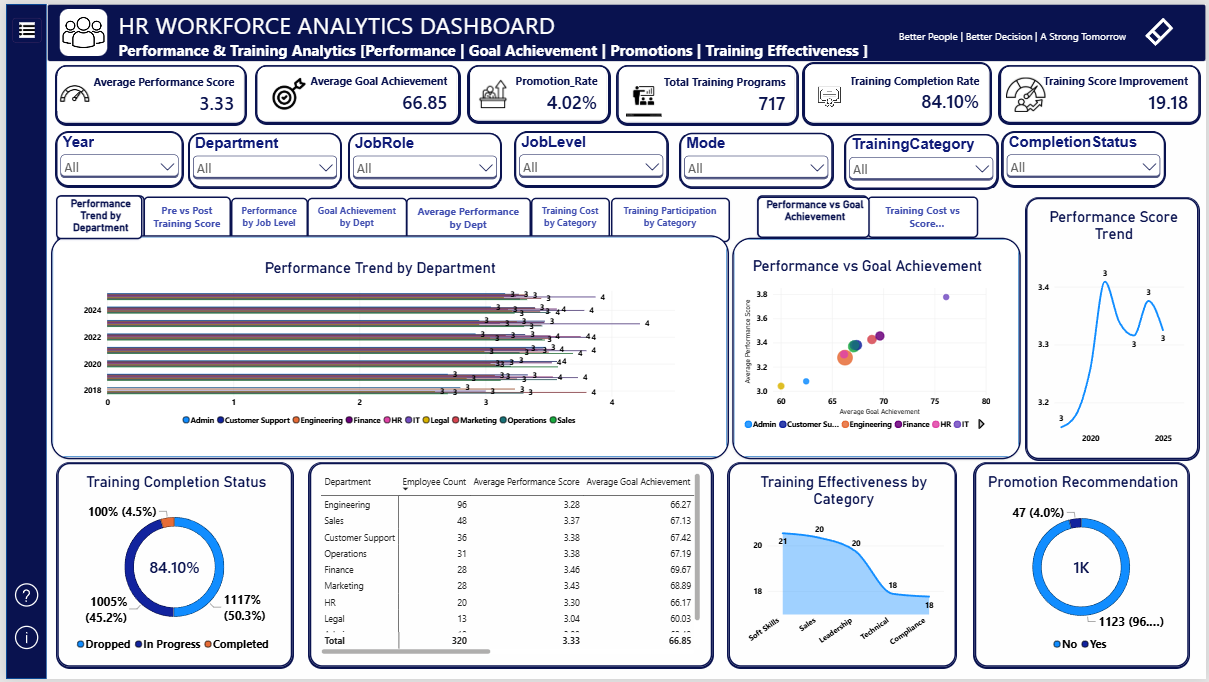

The page's visual inventory and layout, read from the dashboard file:
{"tool":"powerbi","page":{"name":"Performance & Training","canvas":[1920,1080],"ordinal":5},"visuals":[{"type":"shape","title":"side corner layout","box":[0,0,65,1080],"z":0,"group":"g17"},{"type":"actionButton","title":"top nav bar","box":[66,0,1854,92],"z":0,"group":"g16"},{"type":"cardVisual","fields":{"Data":["Measures (2).Training Completion Rate"]},"box":[1276.3,94,300,98],"z":0,"group":"g1"},{"type":"group","id":"g1","title":"Group 1","box":[1276.3,94,633,98],"z":0,"group":"g11"},{"type":"cardVisual","fields":{"Data":["Measures (2).Promotion_Rate"]},"box":[740.2,97,225.7,91.4],"z":0,"group":"g13"},{"type":"cardVisual","fields":{"Data":["Measures (2).Total Training Programs"]},"box":[978.8,97.2,288.6,94.3],"z":0,"group":"g7"},{"type":"cardVisual","fields":{"Data":["Measures (2).Average Goal Achievement"]},"box":[400,98.2,325.7,92.9],"z":0,"group":"g15"},{"type":"cardVisual","fields":{"Data":["Measures (2).Average Performance Score"]},"box":[80,98.6,304.3,94.3],"z":0,"group":"g12"},{"type":"slicer","fields":{"Values":["DimDate.Year"]},"box":[80,204,203.1,88.3],"z":0,"group":"g14"},{"type":"group","id":"g2","title":"scatter charts","box":[1162,306,462,422],"z":0},{"type":"actionButton","title":"traning cost vs src","box":[1378.9,308,177.6,66],"z":0,"group":"g5"},{"type":"actionButton","title":"Average Performance by Department","box":[639.5,310,200,73.2],"z":0,"group":"g3"},{"type":"shape","box":[1162,374.1,461.9,354],"z":0,"group":"g8"},{"type":"image","box":[1282.2,116.5,70,62],"z":125,"group":"g1"},{"type":"cardVisual","fields":{"Data":["Measures (2).Training Score Improvement"]},"box":[1589.3,98.3,320,92.9],"z":500,"group":"g1"},{"type":"group","id":"g3","title":"inactive button","box":[81.1,306.5,1075.2,78.2],"z":500,"group":"g9"},{"type":"shape","box":[72,370.3,1085.2,358],"z":500,"group":"g4"},{"type":"image","title":"people icon","box":[85,7.5,76,75],"z":1000,"group":"g16"},{"type":"image","box":[82,109.4,56,70],"z":1000,"group":"g12"},{"type":"image","box":[420.5,110.8,65.7,67.1],"z":1000,"group":"g15"},{"type":"image","box":[753.1,111.3,54.3,64.3],"z":1000,"group":"g13"},{"type":"image","box":[1600.7,112.2,62.9,65.7],"z":1000,"group":"g1"},{"type":"image","box":[992.2,114.4,57.1,65.7],"z":1000,"group":"g7"},{"type":"slicer","fields":{"Values":["DimEmployee.JobLevel"]},"box":[814.9,204,244.8,88.3],"z":1000,"group":"g14"},{"type":"group","id":"g4","title":"active buttons","box":[72,304,1085.2,424.3],"z":1000,"group":"g9"},{"type":"group","id":"g5","title":"inactive button","box":[1202.3,306,354.2,68],"z":1000,"group":"g2"},{"type":"actionButton","title":"performance vs goal","box":[1202.3,306,177.6,68],"z":1000,"group":"g5"},{"type":"actionButton","title":"Performance vs Goal Achievement","box":[1201.1,308,180.1,66],"z":1000,"group":"g8"},{"type":"actionButton","title":"Goal Achievement by Department","box":[481.2,310,160,71.5],"z":1000,"group":"g3"},{"type":"scatterChart","title":"Performance vs Goal Achievement","fields":{"Series":["DimEmployee.Department"],"Size":["Measures (2).Total Employees"],"X":["Measures (2).Average Goal Achievement"],"Y":["Measures (2).Average Performance Score"]},"box":[1165.9,389.6,424.7,312],"z":1000,"group":"g10"},{"type":"actionButton","title":"info","box":[7.5,985,50,50],"z":1000,"group":"g17"},{"type":"actionButton","title":"clear slicer","box":[1794,12,102,66],"z":1500,"group":"g16"},{"type":"group","id":"g6","title":"chart","box":[87.4,382.6,1055.3,334],"z":1500,"group":"g9"},{"type":"textbox","box":[180,7.5,1220,85],"z":2000,"group":"g16"},{"type":"group","id":"g7","title":"Group 1","box":[978.8,97.2,288.6,94.3],"z":2000,"group":"g11"},{"type":"slicer","fields":{"Values":["DimEmployee.JobRole"]},"box":[548.1,206.5,244.8,88.3],"z":2000,"group":"g14"},{"type":"group","id":"g8","title":"active button","box":[1162,306,461.9,422.1],"z":2000,"group":"g2"},{"type":"actionButton","title":"Training Participation by Category","box":[966.2,310,190,71.5],"z":2000,"group":"g3"},{"type":"actionButton","title":"help","box":[7.5,917.5,50,50],"z":2000,"group":"g17"},{"type":"textbox","box":[1306,22,486,62],"z":2500,"group":"g16"},{"type":"actionButton","title":"menu Button","box":[10,22.5,47.5,40],"z":3000,"group":"g17"},{"type":"slicer","fields":{"Values":["DimDepartment.Department"]},"box":[291.1,206.5,244.8,88.3],"z":3000,"group":"g14"},{"type":"group","id":"g9","title":"Group 1","box":[72,304,1085.2,424.3],"z":3000},{"type":"actionButton","title":"Performance by Job Level","box":[359.5,309.8,123.4,74.8],"z":3000,"group":"g3"},{"type":"group","id":"g10","title":"carts","box":[1165.9,381.6,426.7,334],"z":3000,"group":"g2"},{"type":"group","id":"g11","title":"card","box":[80,94,1829.3,98.9],"z":4000},{"type":"group","id":"g12","title":"Group 1","box":[80,98.6,304.3,94.3],"z":4000,"group":"g11"},{"type":"slicer","fields":{"Values":["FactTraining.CompletionStatus"]},"box":[1593.6,204,260.4,88.3],"z":4000,"group":"g14"},{"type":"actionButton","title":"Training Cost by Category","box":[839.6,309.8,126.7,74.8],"z":4000,"group":"g3"},{"type":"group","id":"g13","title":"Group 1","box":[740.2,97,225.7,91.4],"z":5000,"group":"g11"},{"type":"group","id":"g14","title":"slicers","box":[80,204,1774,92],"z":5000},{"type":"slicer","fields":{"Values":["FactTraining.TrainingCategory"]},"box":[1342.9,207.7,244.8,88.3],"z":5000,"group":"g14"},{"type":"actionButton","title":"Pre vs Post Training Score","box":[219.5,308.2,140,73.2],"z":5000,"group":"g3"},{"type":"slicer","fields":{"Values":["FactTraining.Mode"]},"box":[1078.6,205.2,244.8,88.3],"z":6000,"group":"g14"},{"type":"actionButton","title":"Performance Trend by Department","box":[81.1,306.5,140,76.5],"z":6000,"group":"g3"},{"type":"donutChart","title":"Training Completion Status","fields":{"Category":["FactTraining.CompletionStatus"],"Y":["Measures (2).Training Completion Rate"]},"box":[82,734,376,326],"z":6000},{"type":"group","id":"g15","title":"Group 1","box":[400,98.2,325.7,92.9],"z":7000,"group":"g11"},{"type":"actionButton","title":"Performance Trend by Department","box":[80.6,305.7,138.7,70.3],"z":7000,"group":"g4"},{"type":"clusteredBarChart","title":"Performance Trend by Department","fields":{"Category":["FactPerformance.ReviewYear"],"Series":["DimEmployee.Department"],"Y":["Measures (2).Average Performance Score"]},"box":[107.9,395.4,981.8,301],"z":7000,"group":"g6"},{"type":"donutChart","title":"Promotion Recommendation","fields":{"Category":["FactPerformance.PromotionRecommended"],"Y":["Measures (2).Total Performance Reviews"]},"box":[1550,734,342,326],"z":7000},{"type":"pivotTable","title":"Performance vs Goal Achievement","fields":{"Rows":["DimEmployee.Department"],"Values":["Measures (2).Employee Count","Measures (2).Average Performance Score","Measures (2).Average Goal Achievement","Measures (2).Average Manager Rating","Measures (2).Promotion_Rate","Measures (2).Training Completion Rate","Measures (2).Total Training Cost"]},"box":[486,734,644,326],"z":8000},{"type":"lineChart","title":"Performance Score Trend","fields":{"Category":["FactPerformance.ReviewYear"],"Y":["Measures (2).Average Performance Score"]},"box":[1632,310,276,418],"z":9000},{"type":"areaChart","title":"Training Effectiveness by Category","fields":{"Category":["FactTraining.TrainingCategory"],"Y":["Measures (2).Training Score Improvement"]},"box":[1156,734,364,326],"z":10000},{"type":"group","id":"g16","title":"top nav bar","box":[66,0,1854,92.5],"z":11000},{"type":"group","id":"g17","title":"menu bar","box":[0,0,65,1080],"z":13000}]}

Visuals, with their boxes in screenshot pixels (x1, y1, x2, y2), scaled from the page's 1920x1080 canvas onto the 1209x682 screenshot:
"side corner layout" shape: 0, 0, 41, 681
"top nav bar" actionButton: 42, 0, 1208, 58
cardVisual - Measures (2).Training Completion Rate: 804, 59, 993, 121
"Group 1" group: 804, 59, 1202, 121
cardVisual - Measures (2).Promotion_Rate: 466, 61, 608, 119
cardVisual - Measures (2).Total Training Programs: 616, 61, 798, 121
cardVisual - Measures (2).Average Goal Achievement: 252, 62, 457, 121
cardVisual - Measures (2).Average Performance Score: 50, 62, 242, 122
slicer - DimDate.Year: 50, 129, 178, 185
"scatter charts" group: 732, 193, 1023, 460
"traning cost vs src" actionButton: 868, 194, 980, 236
"Average Performance by Department" actionButton: 403, 196, 529, 242
shape: 732, 236, 1023, 460
image: 807, 74, 851, 113
cardVisual - Measures (2).Training Score Improvement: 1001, 62, 1202, 121
"inactive button" group: 51, 194, 728, 243
shape: 45, 234, 729, 460
"people icon" image: 54, 5, 101, 52
image: 52, 69, 87, 113
image: 265, 70, 306, 112
image: 474, 70, 508, 111
image: 1008, 71, 1048, 112
image: 625, 72, 661, 114
slicer - DimEmployee.JobLevel: 513, 129, 667, 185
"active buttons" group: 45, 192, 729, 460
"inactive button" group: 757, 193, 980, 236
"performance vs goal" actionButton: 757, 193, 869, 236
"Performance vs Goal Achievement" actionButton: 756, 194, 870, 236
"Goal Achievement by Department" actionButton: 303, 196, 404, 241
"Performance vs Goal Achievement" scatterChart: 734, 246, 1002, 443
"info" actionButton: 5, 622, 36, 654
"clear slicer" actionButton: 1130, 8, 1194, 49
"chart" group: 55, 242, 720, 453
textbox: 113, 5, 882, 58
"Group 1" group: 616, 61, 798, 121
slicer - DimEmployee.JobRole: 345, 130, 499, 186
"active button" group: 732, 193, 1023, 460
"Training Participation by Category" actionButton: 608, 196, 728, 241
"help" actionButton: 5, 579, 36, 611
textbox: 822, 14, 1128, 53
"menu Button" actionButton: 6, 14, 36, 39
slicer - DimDepartment.Department: 183, 130, 337, 186
"Group 1" group: 45, 192, 729, 460
"Performance by Job Level" actionButton: 226, 196, 304, 243
"carts" group: 734, 241, 1003, 452
"card" group: 50, 59, 1202, 122
"Group 1" group: 50, 62, 242, 122
slicer - FactTraining.CompletionStatus: 1003, 129, 1167, 185
"Training Cost by Category" actionButton: 529, 196, 608, 243
"Group 1" group: 466, 61, 608, 119
"slicers" group: 50, 129, 1167, 187
slicer - FactTraining.TrainingCategory: 846, 131, 1000, 187
"Pre vs Post Training Score" actionButton: 138, 195, 226, 241
slicer - FactTraining.Mode: 679, 130, 833, 185
"Performance Trend by Department" actionButton: 51, 194, 139, 242
"Training Completion Status" donutChart: 52, 464, 288, 669
"Group 1" group: 252, 62, 457, 121
"Performance Trend by Department" actionButton: 51, 193, 138, 237
"Performance Trend by Department" clusteredBarChart: 68, 250, 686, 440
"Promotion Recommendation" donutChart: 976, 464, 1191, 669
"Performance vs Goal Achievement" pivotTable: 306, 464, 712, 669
"Performance Score Trend" lineChart: 1028, 196, 1201, 460
"Training Effectiveness by Category" areaChart: 728, 464, 957, 669
"top nav bar" group: 42, 0, 1208, 58
"menu bar" group: 0, 0, 41, 681
